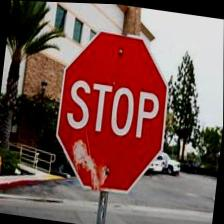Stop: (51, 25, 173, 196)
